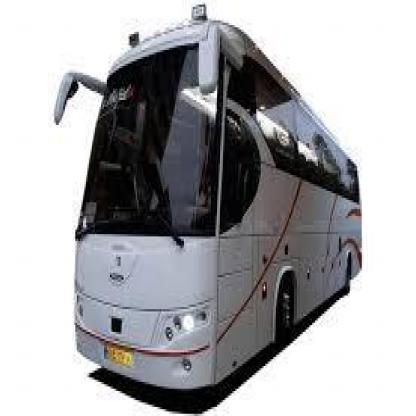Bus: (47, 9, 364, 400)
